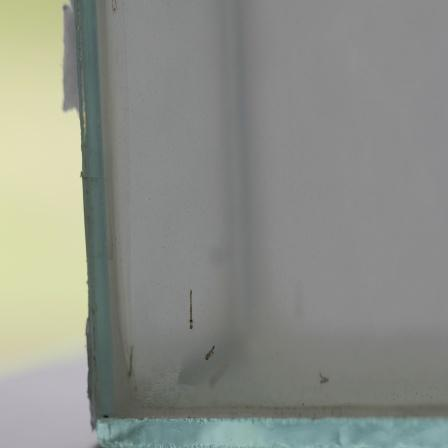Jentik-Nyamuk: (183, 284, 198, 332), (201, 342, 219, 365)
